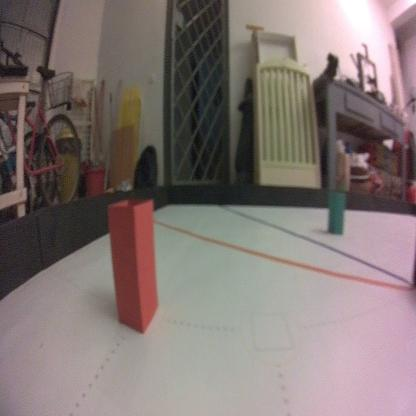green: (326, 191, 347, 237)
red: (106, 195, 160, 336)
